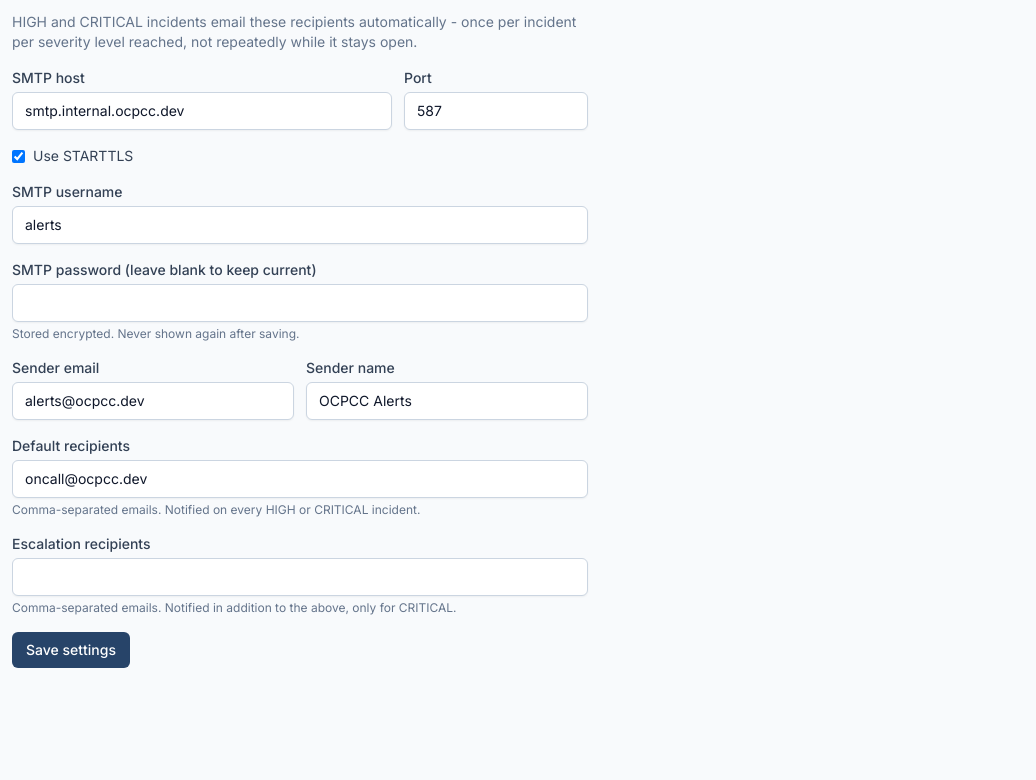
Test case: NotificationsPanel › saves updated settings via a PUT request
The width and height of the screenshot is (1036, 780).
Expected: the field showing "smtp.internal.ocpcc.dev" is shown, left=12, top=92, right=392, bottom=130
Click the button "Save settings".
click(71, 650)  # box left=12, top=632, right=130, bottom=668
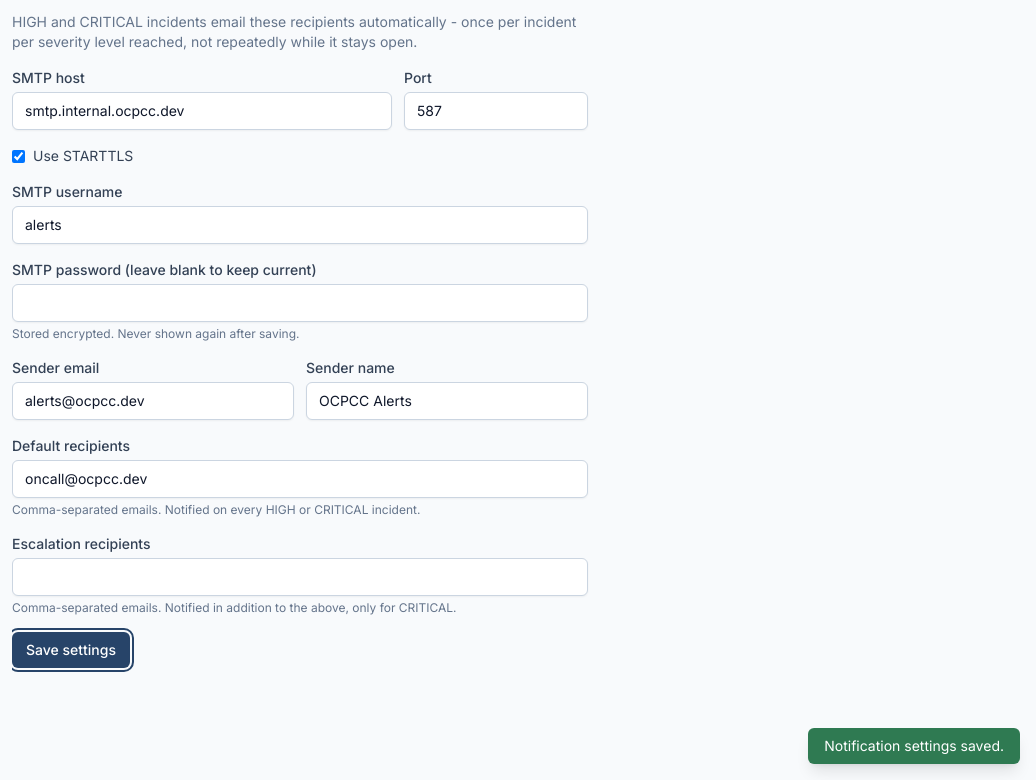
Result: the text "Notification settings saved." is shown at left=808, top=728, right=1020, bottom=764
